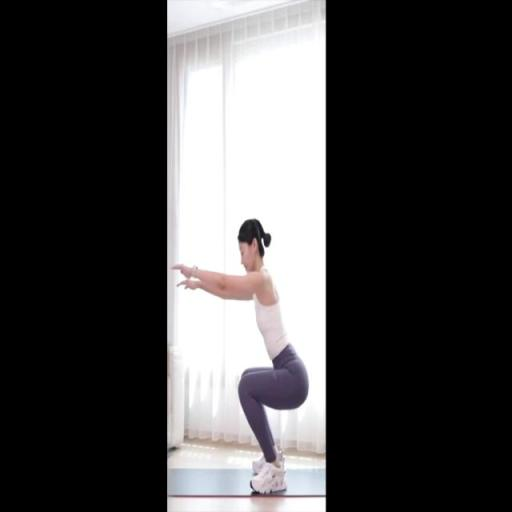Normal_BrenchPress: (171, 218, 310, 496)
